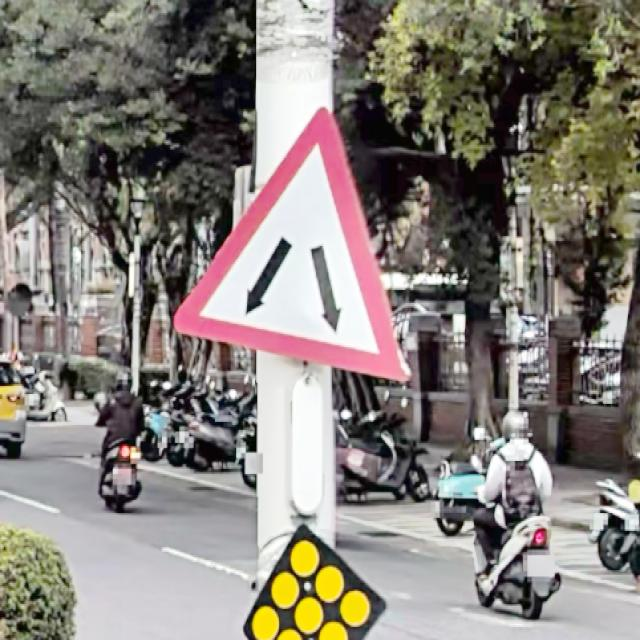diverge: (174, 106, 412, 384)
